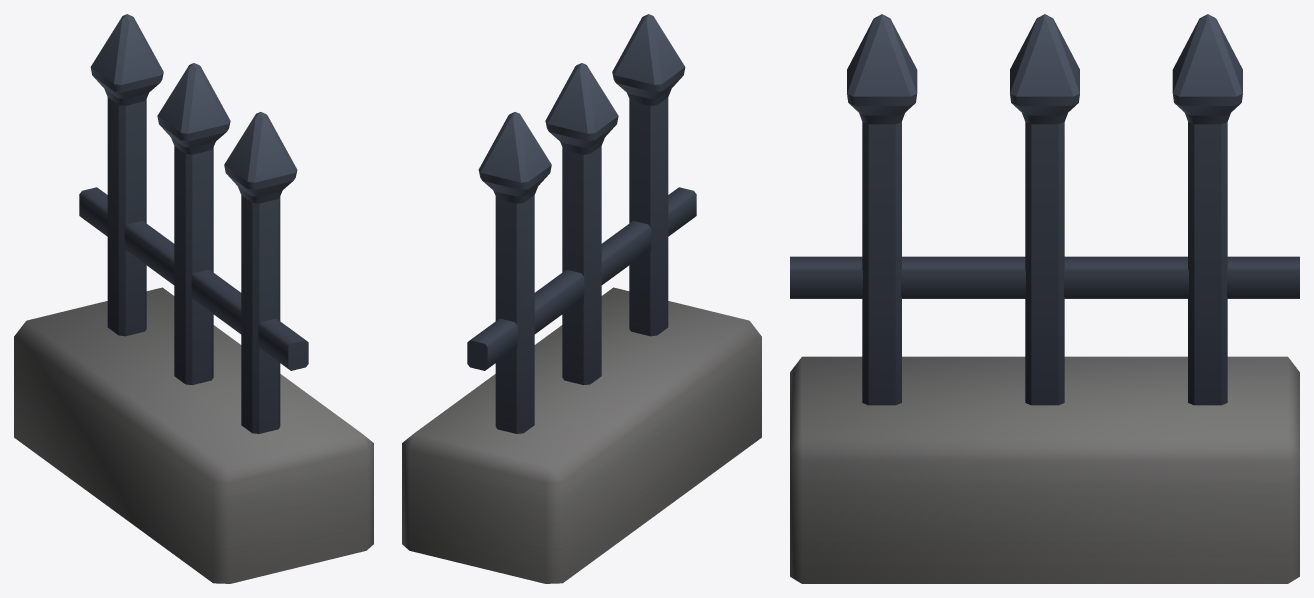
Rendered from Fence_1_1.obj.
3 renders of one model, left to right at view 1: azimuth 30°, elevation 25°; view 2: azimuth 150°, elevation 25°; view 3: azimuth 270°, elevation 25°, orthographic. The views are drawn at different scales.
Parts seen in each view (by area): view 1: Fence_1_1; view 2: Fence_1_1; view 3: Fence_1_1.
Boxes of the visible parts, x1,y1,x2,y2 form: Fence_1_1: (14,14,373,583); Fence_1_1: (402,14,761,583); Fence_1_1: (790,14,1299,583).
Bounding box in the file's own units: 0.4327 × 1.1 × 0.9745.
